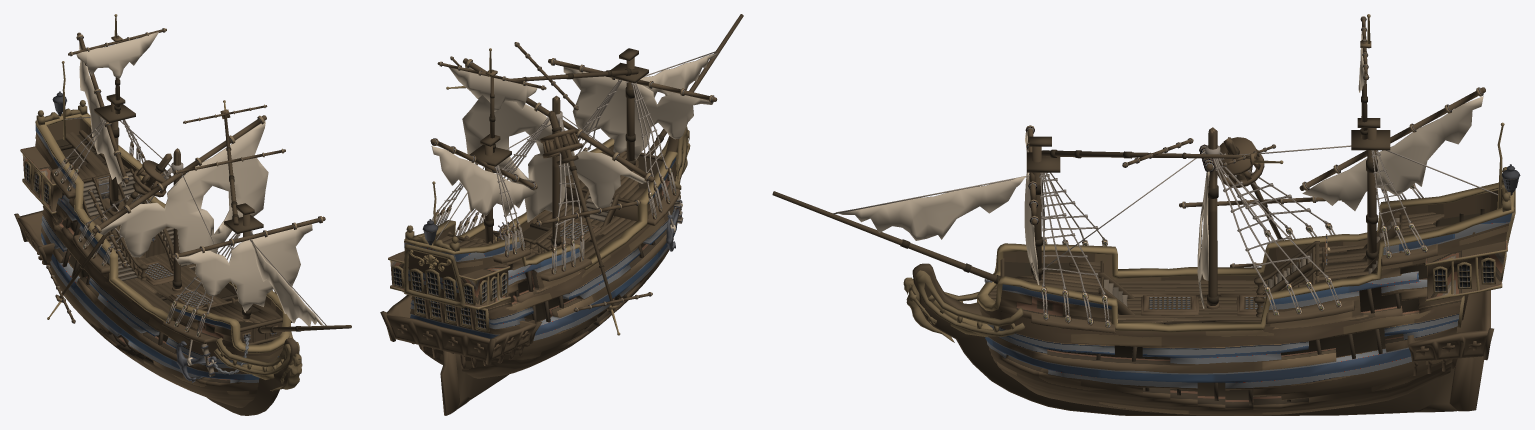
File: SM_Prop_Shipwreck_01.glb
The picture shows the model from 3 angles, left to right: view 1: azimuth 30°, elevation 25°; view 2: azimuth 150°, elevation 25°; view 3: azimuth 270°, elevation 25°; orthographic projection. The views are drawn at different scales.
Parts seen in each view (by area): view 1: SM_Prop_Shipwreck_01_part00, SM_Prop_Shipwreck_01_part01; view 2: SM_Prop_Shipwreck_01_part00, SM_Prop_Shipwreck_01_part01; view 3: SM_Prop_Shipwreck_01_part00, SM_Prop_Shipwreck_01_part01.
Part boxes in pixels (bbox=[...]): SM_Prop_Shipwreck_01_part00: bbox=[14, 14, 351, 415]; SM_Prop_Shipwreck_01_part01: bbox=[76, 32, 323, 326]; SM_Prop_Shipwreck_01_part00: bbox=[380, 14, 743, 415]; SM_Prop_Shipwreck_01_part01: bbox=[431, 52, 718, 222]; SM_Prop_Shipwreck_01_part00: bbox=[772, 14, 1520, 415]; SM_Prop_Shipwreck_01_part01: bbox=[836, 31, 1483, 308].
Size of the model in its own units: 14.93 by 23.52 by 39.75.
1 material, 1 textured.
